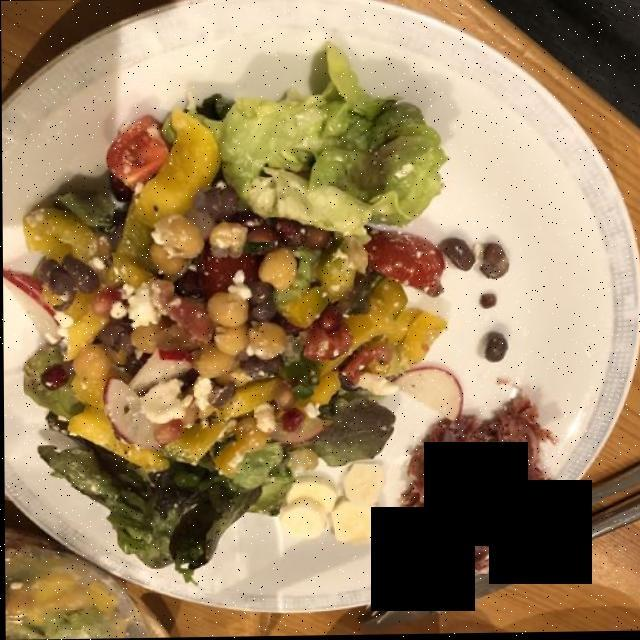bell-pepper: (30, 113, 434, 463)
ham: (406, 414, 553, 569)
pomegranate: (192, 176, 336, 288)
radish: (8, 265, 460, 445)
salad: (29, 49, 449, 564)
tomato: (97, 118, 437, 288)
